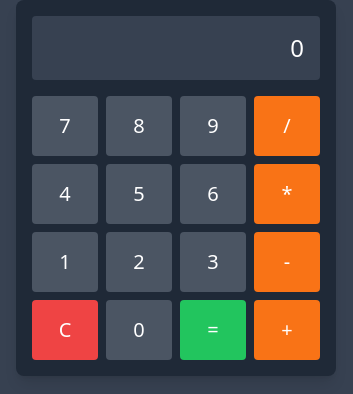
Test case: Calculator › can input numbers
Click the button "1". click: point(65, 262)
box: [32,232,98,292]
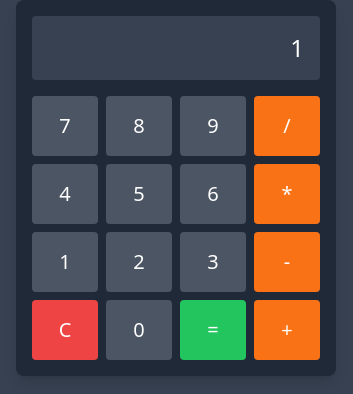
Result: the text with class "display" reads "1" at [290,31,304,64]
